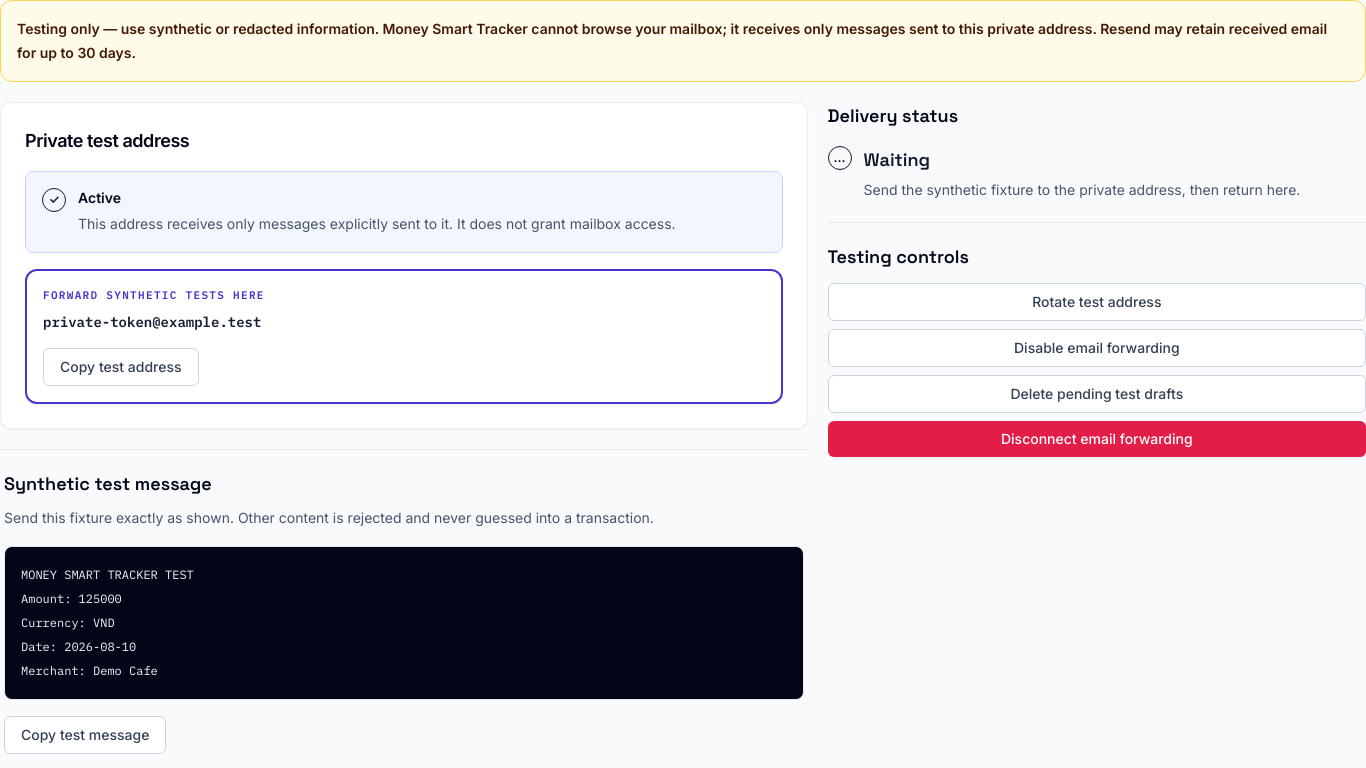
Scenario: EmailSetupPanel confirmations › shows the exact effect before Disable email forwarding
Click the button "Disable email forwarding".
click(1097, 348)  # box [828, 329, 1365, 367]
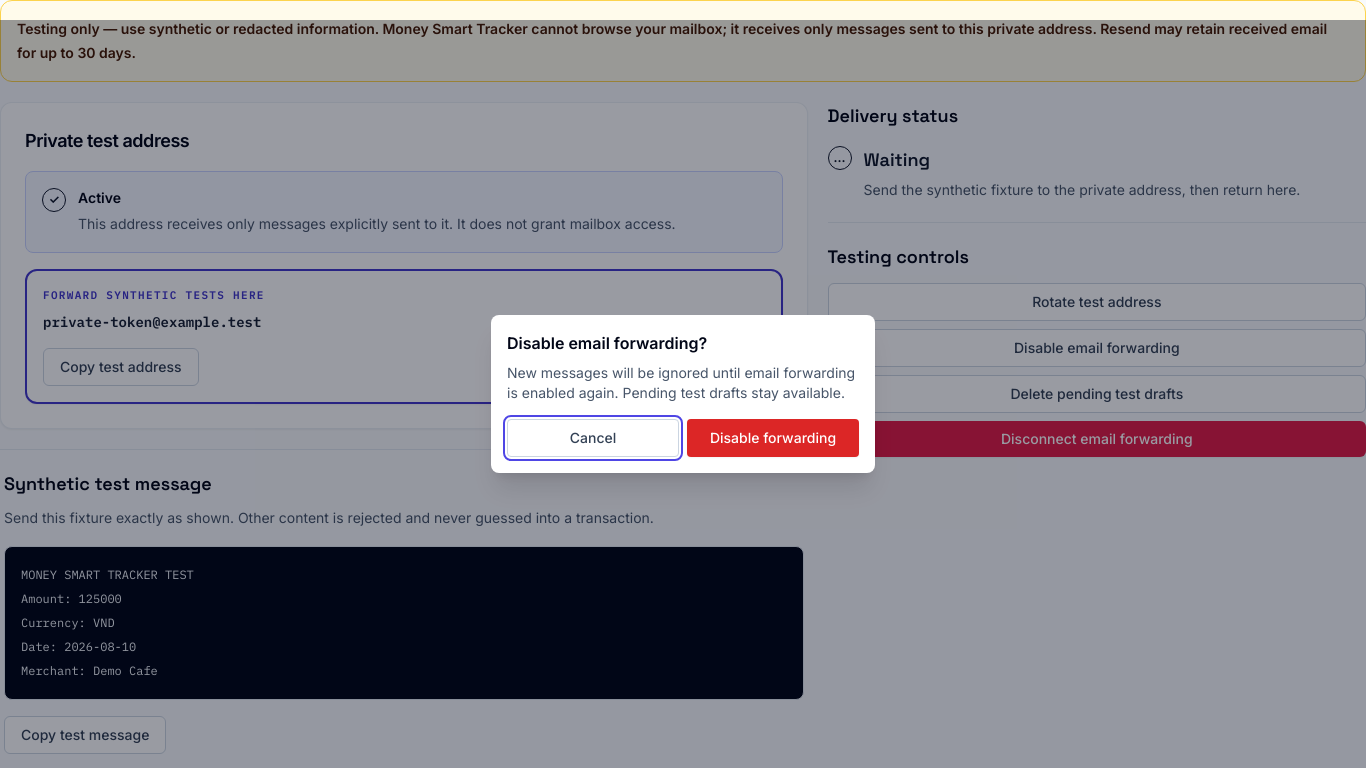
Result: the text "New messages will be ignored until email forwarding is enabled again. Pending test drafts stay available." is shown at [507, 364, 855, 401]
Result: the button "Disable forwarding" is shown at [687, 419, 859, 457]
